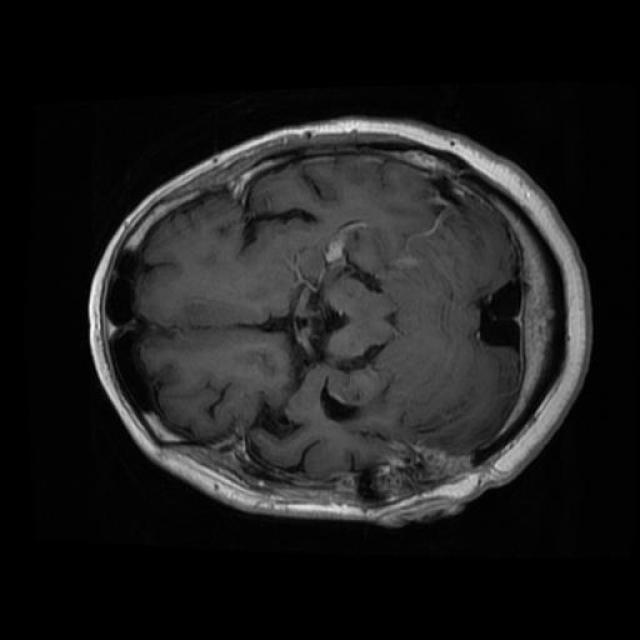Glioma: (337, 453, 468, 496)
